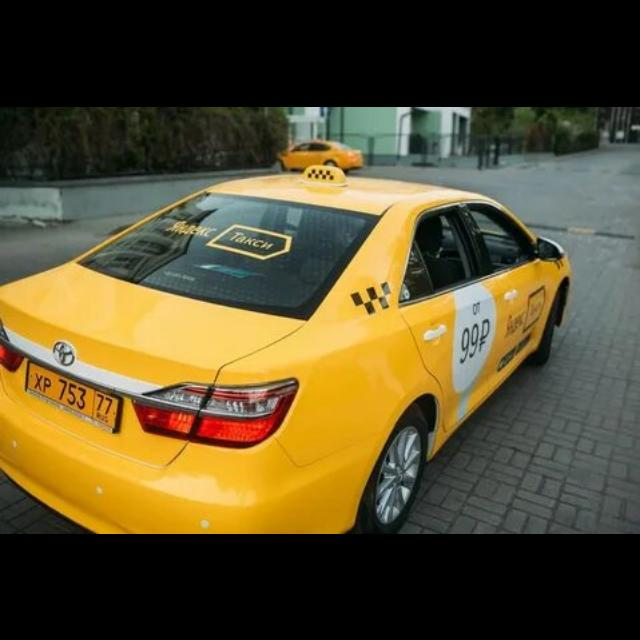taxi: (2, 163, 573, 533), (276, 138, 364, 174)
